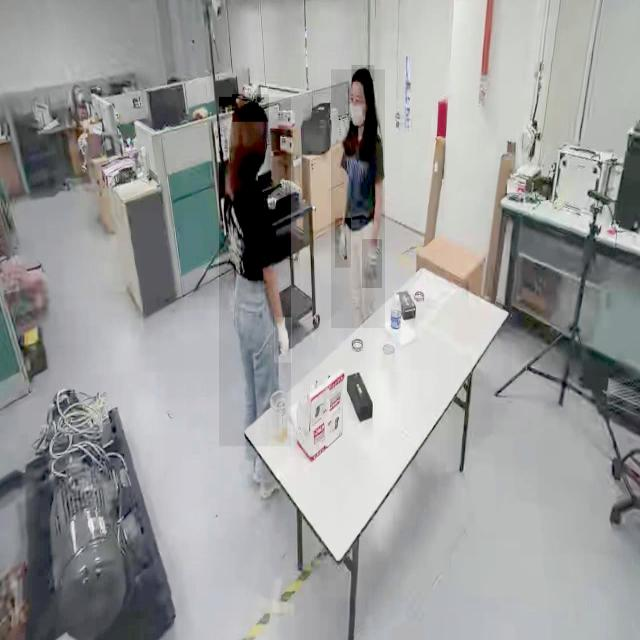face_mask: (349, 100, 369, 126)
hand_glove: (362, 239, 382, 289), (274, 317, 292, 363), (335, 218, 351, 268)
head_nohelmet: (231, 94, 269, 123), (351, 65, 375, 83)
person: (219, 97, 291, 447), (331, 69, 385, 329)
